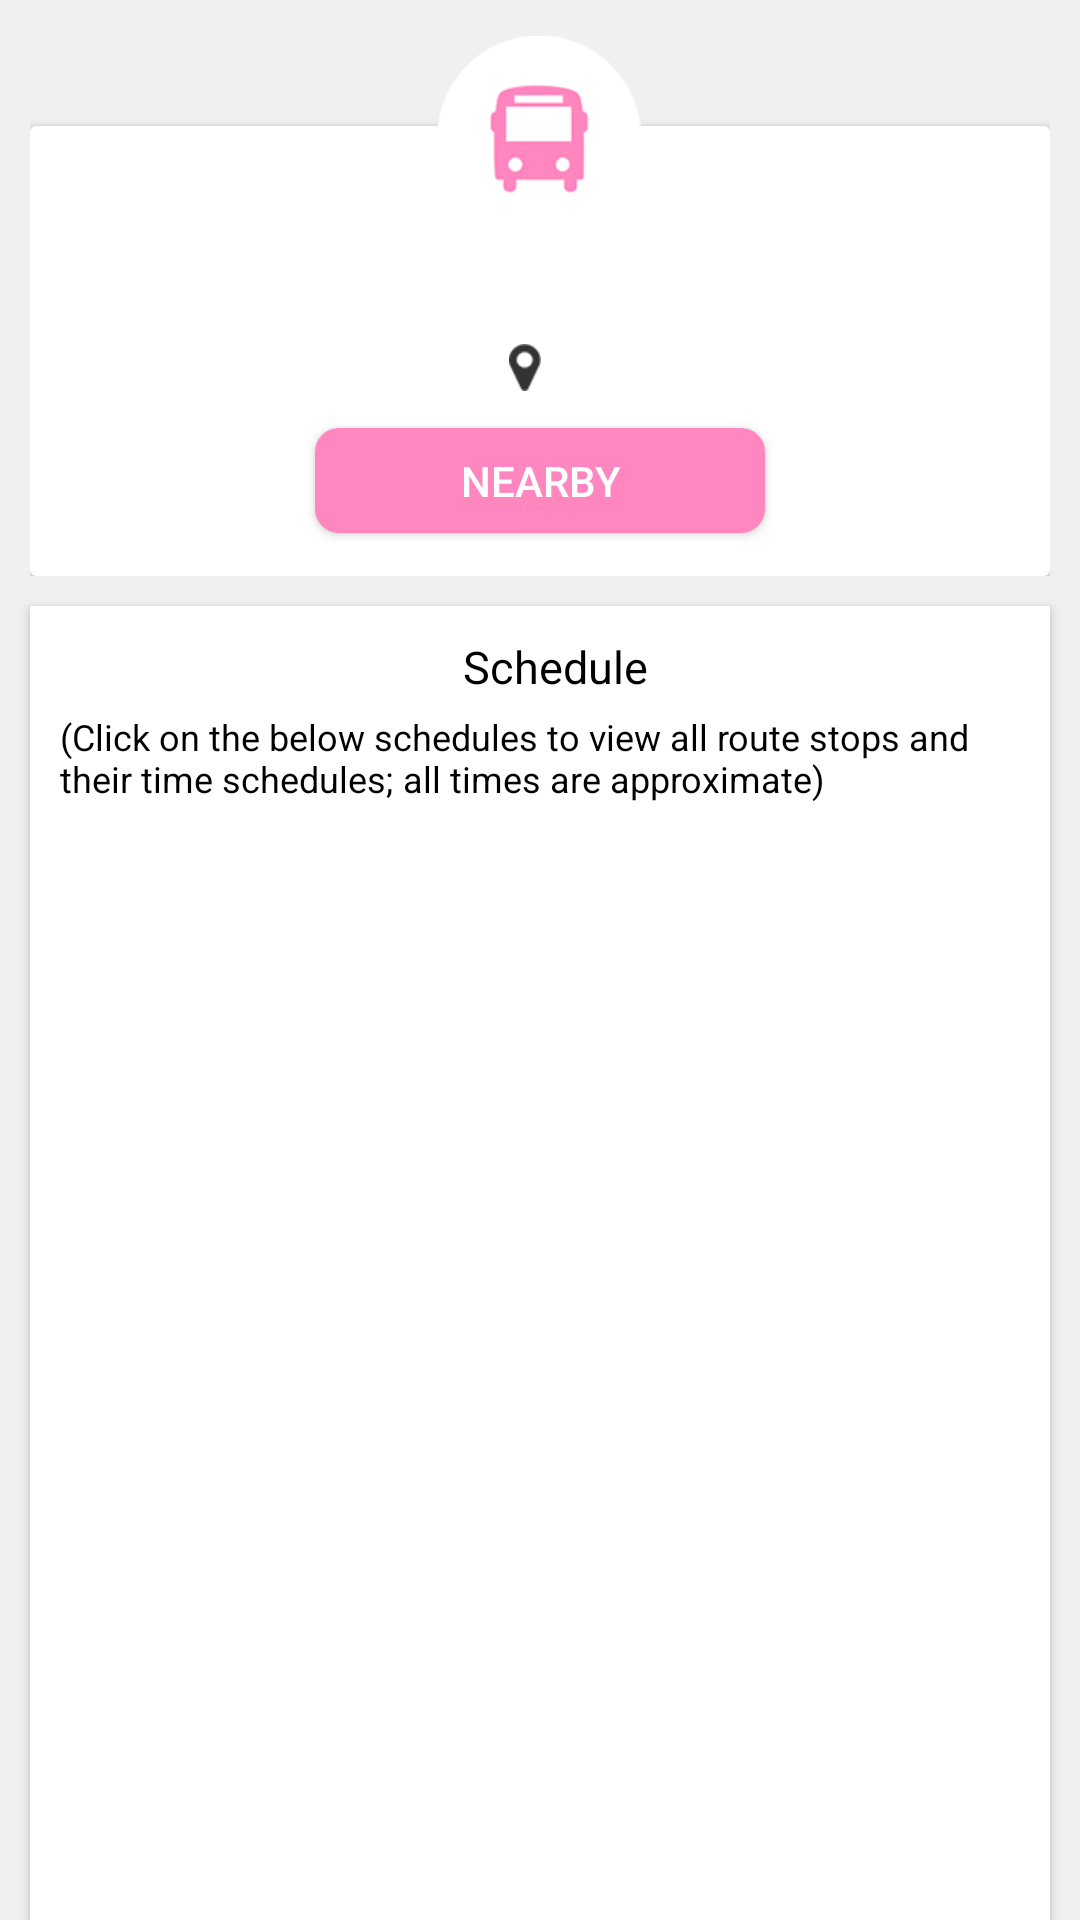

Named icons in this screenshot (1080*1920) and their centers, (x=x, y=y):
bus: (x=539, y=139)
